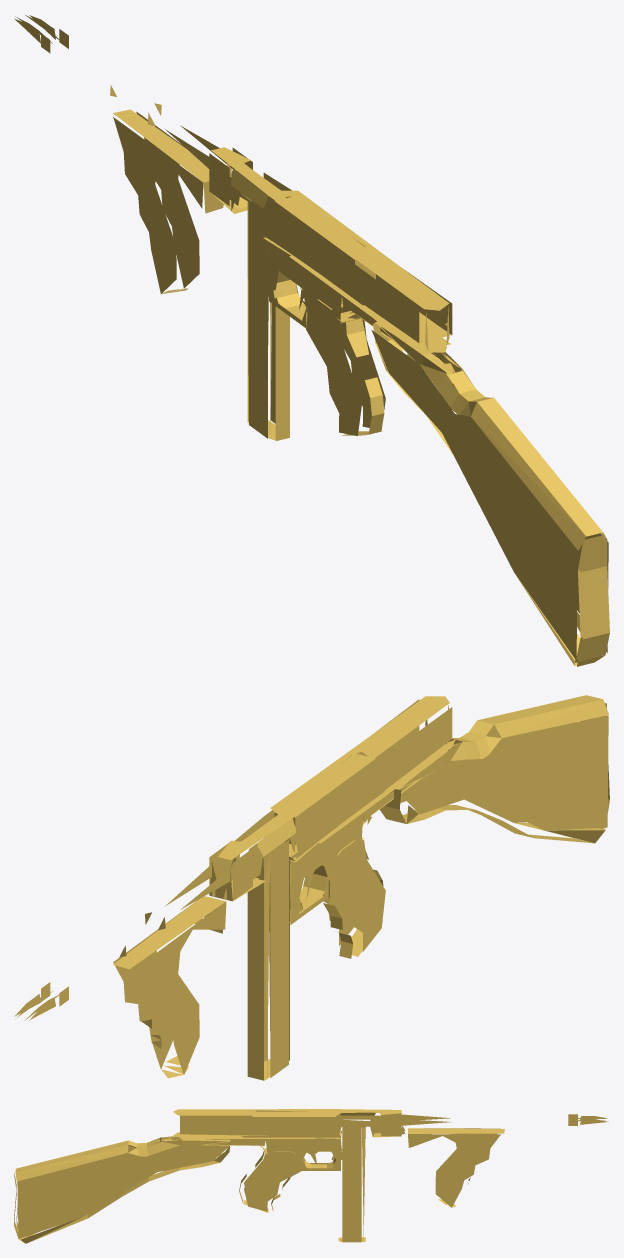
Rendered from charm_mst_subfusil_4.glb.
3 views of the same model, one above another, from view 1: azimuth 30°, elevation 25°; view 2: azimuth 150°, elevation 25°; view 3: azimuth 270°, elevation 25° (orthographic). The views are drawn at different scales.
Visible parts, largest first — view 1: p0_paint; view 2: p0_paint; view 3: p0_paint.
Boxes of the visible parts, x1,y1,x2,y2 form: p0_paint: (15,15,609,666); p0_paint: (14,695,609,1080); p0_paint: (14,1109,608,1243).
Size of the model in its own units: 0.0295 by 0.2034 by 0.852.
